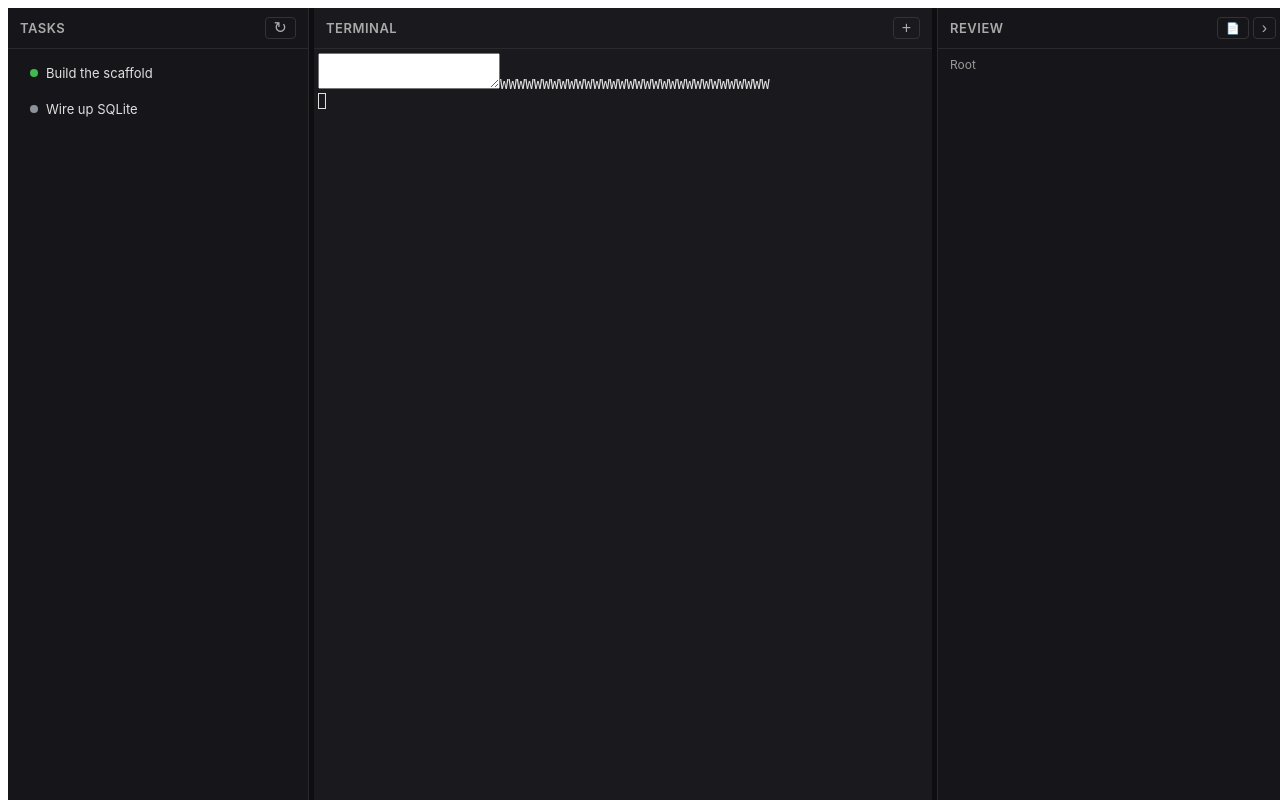
Test: 3-panel layout › can expand the review panel after collapsing
Click the button titled "Collapse review panel" at coordinates (1264, 28), box x1=1253 y1=17 x2=1276 y2=39
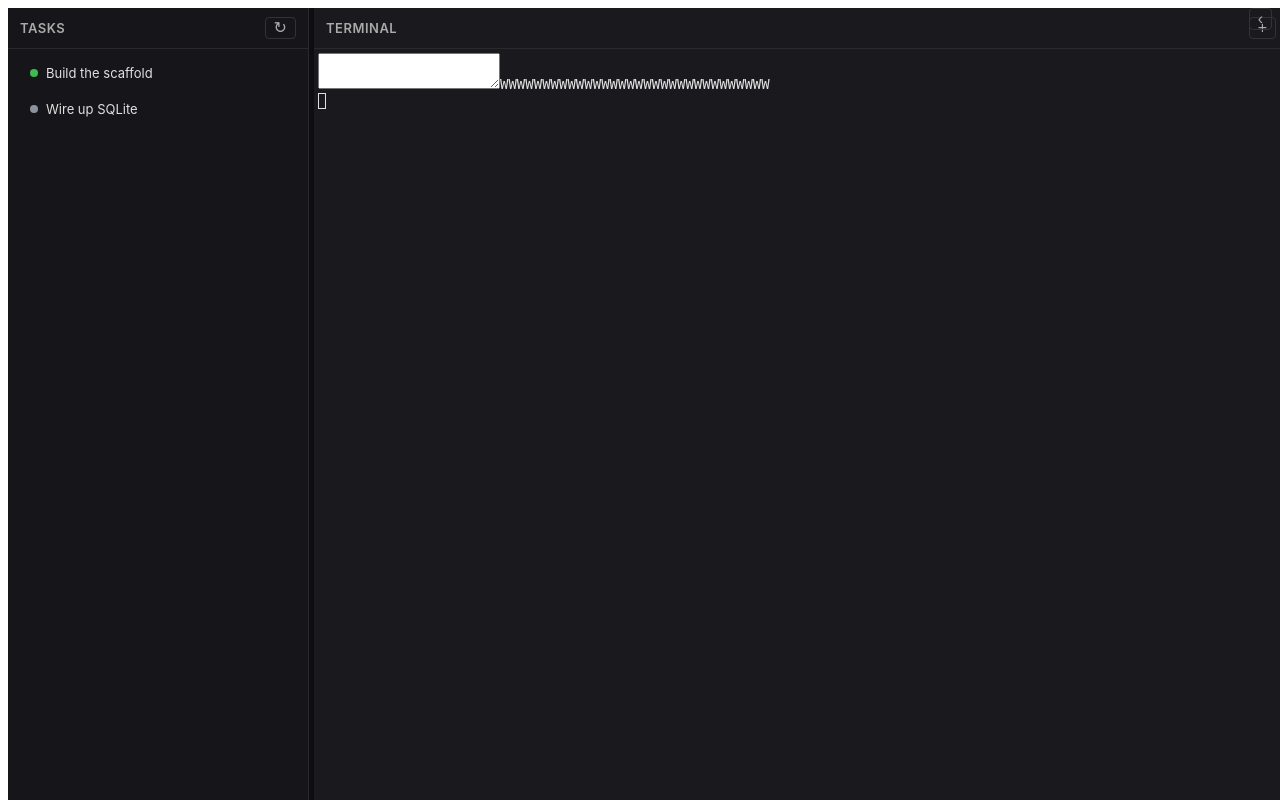
Now the text "Review" is gone
Click the button titled "Expand review panel" at coordinates (1260, 19), box x1=1249 y1=8 x2=1272 y2=30
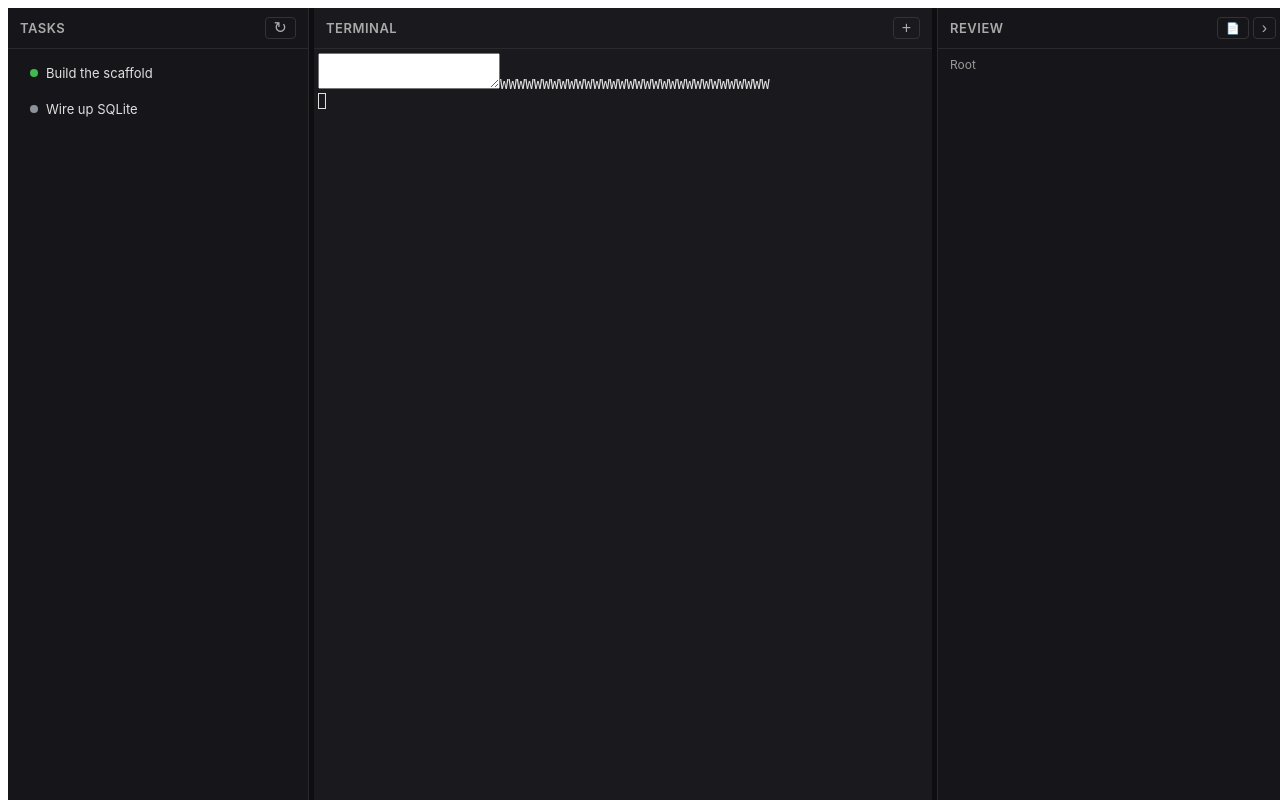
Now the text "Review" is shown, box x1=950 y1=20 x2=1004 y2=36
